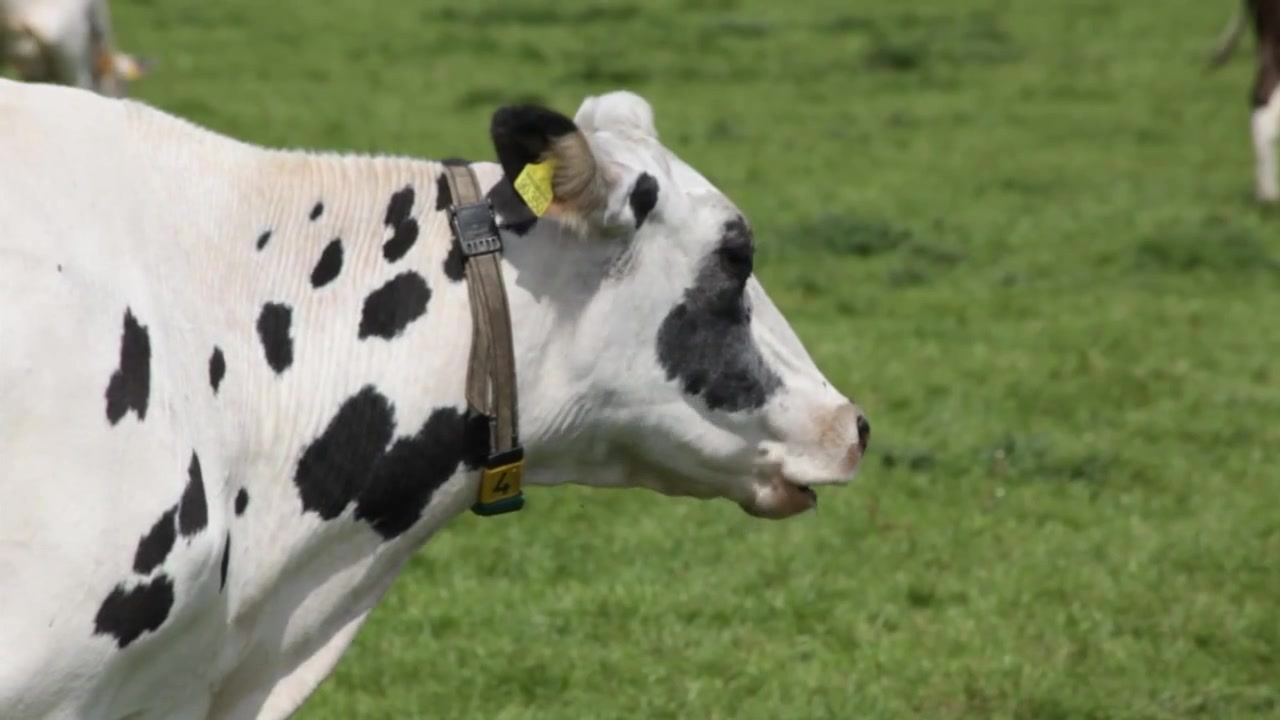cow: (2, 86, 875, 720)
